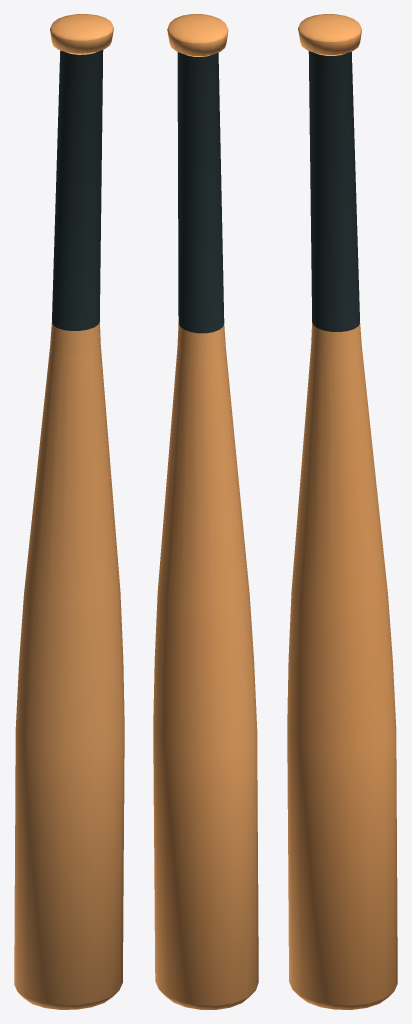
The model's file is PP_Bat2.fbx.
3 views of the same model, side by side, from view 1: azimuth 90°, elevation 25°; view 2: azimuth 210°, elevation 25°; view 3: azimuth 270°, elevation 25° (orthographic).
Parts seen in each view (by area): view 1: Bat_2; view 2: Bat_2; view 3: Bat_2.
Part boxes in pixels (x1=…): Bat_2: x1=14, y1=14, x2=124, y2=1009; Bat_2: x1=153, y1=14, x2=258, y2=1009; Bat_2: x1=287, y1=14, x2=397, y2=1009.
Size of the model in its own units: 9.15 by 95.97 by 9.85.
